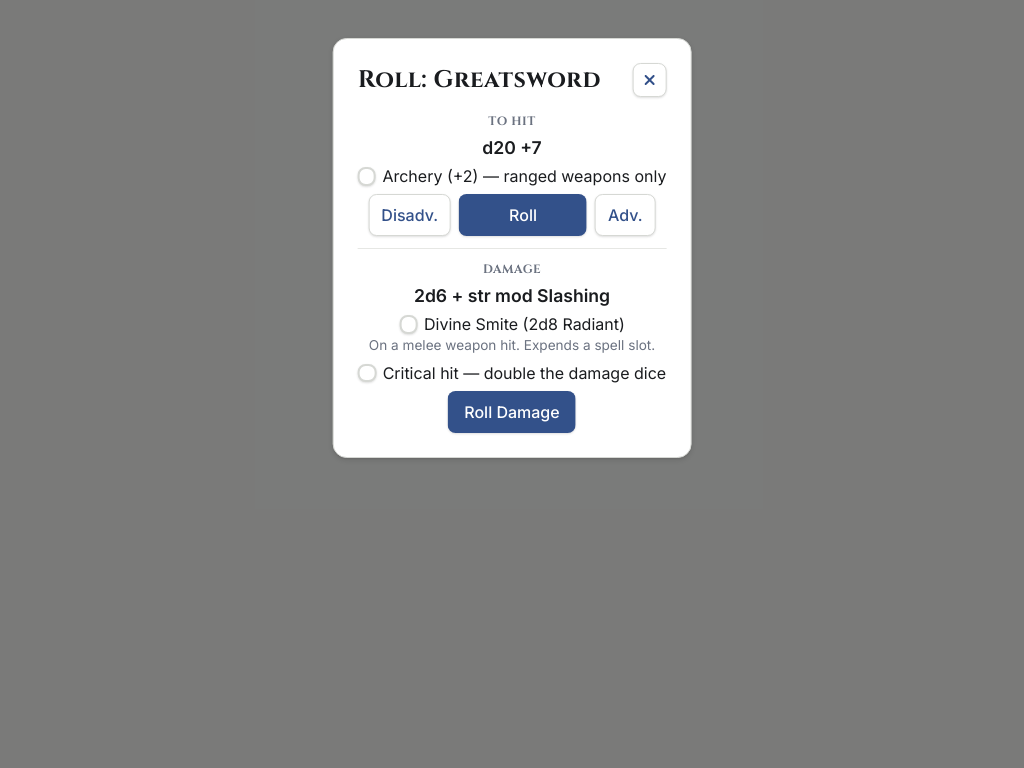
Test: RollModal — weapon conditions › falls back to an opt-in tick on an untagged attack
Expected: the text "d20 +7" is shown, [482,137,542,158]
Click the checkbox labelled "Archery (+2) — ranged weapons only" at (367, 176), box [358,167,376,186]
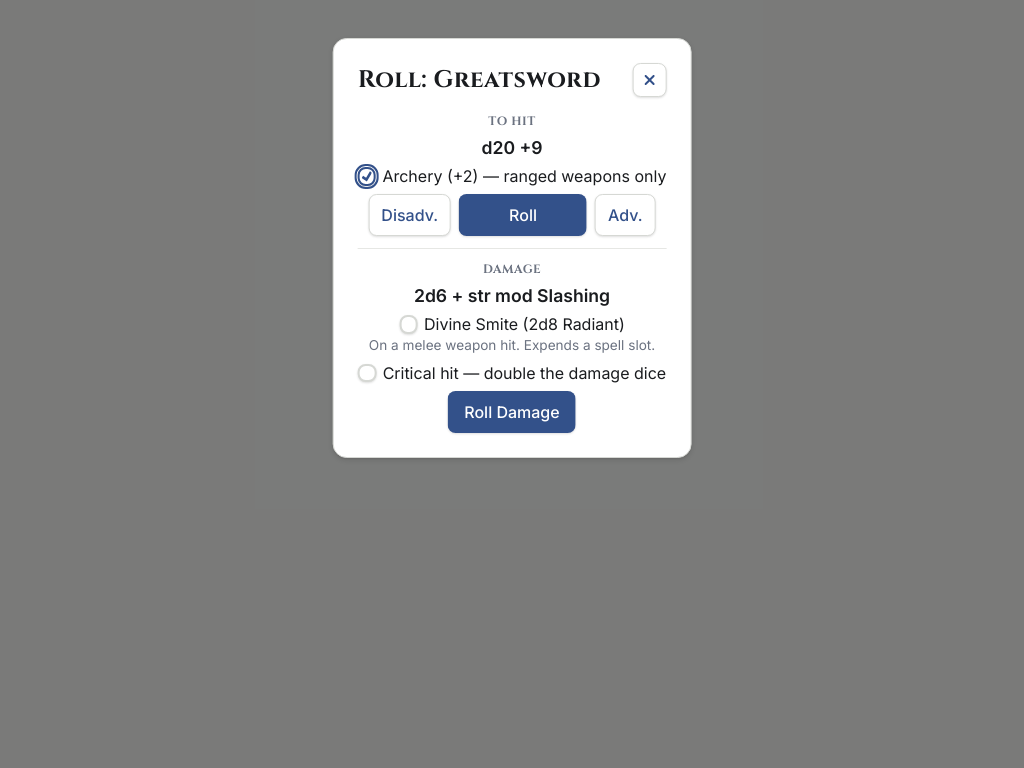
Expected: the text "d20 +9" is shown, [482,137,543,158]
